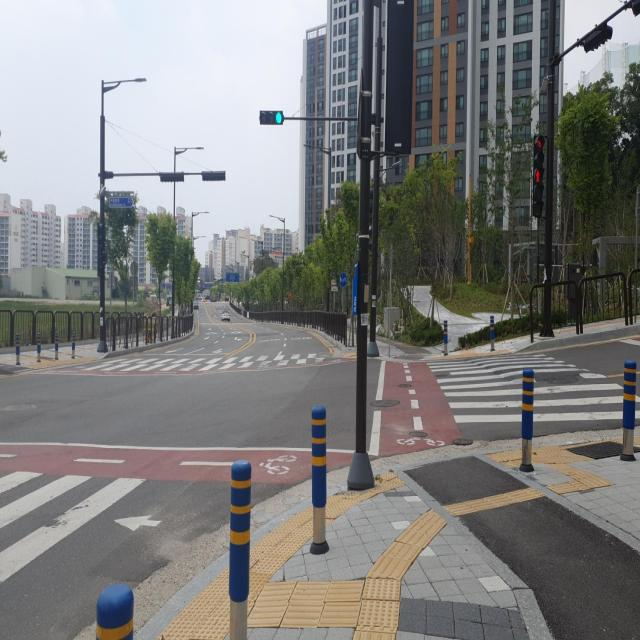빨간불: (531, 169, 545, 217)
횡단보도: (0, 474, 145, 585), (426, 352, 640, 423), (75, 351, 336, 372)
